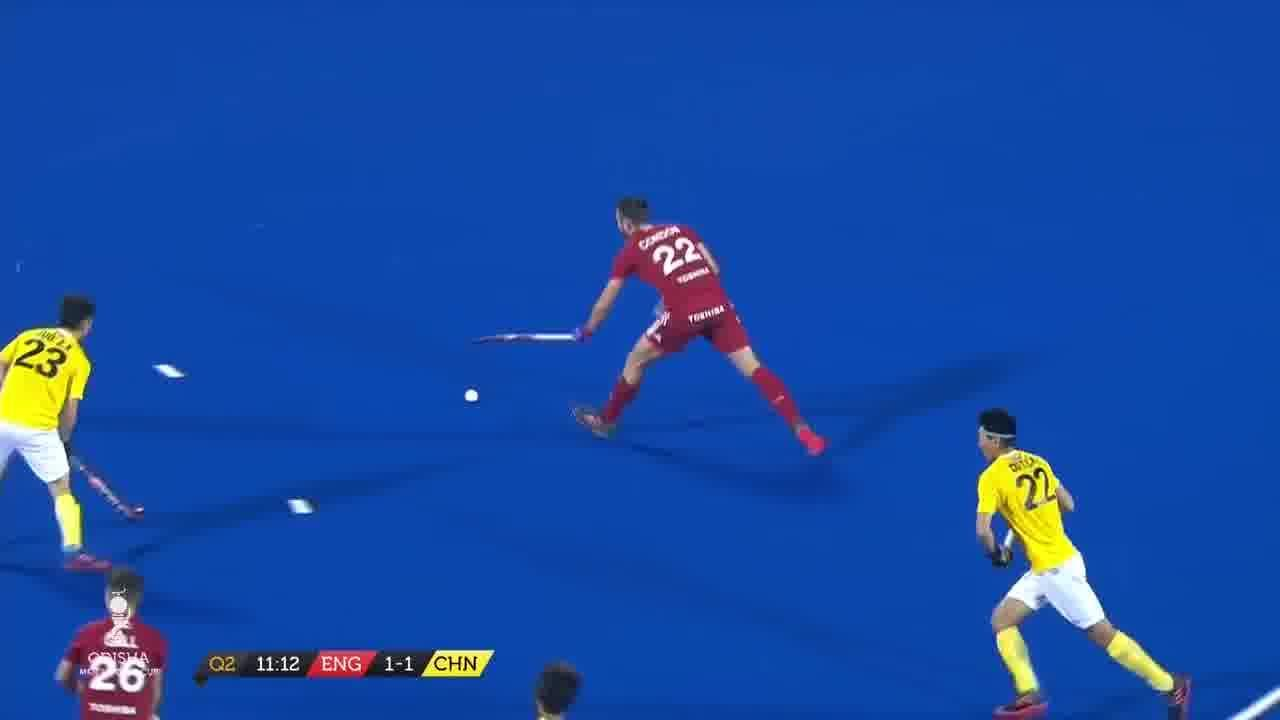ball: (462, 384, 484, 409)
